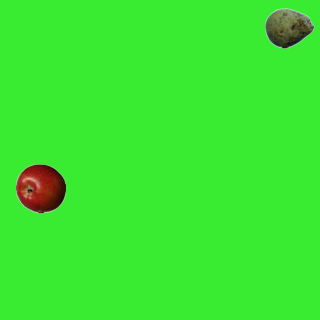Apple Braeburn: (15, 163, 65, 213)
Pear Stone: (264, 3, 314, 53)
